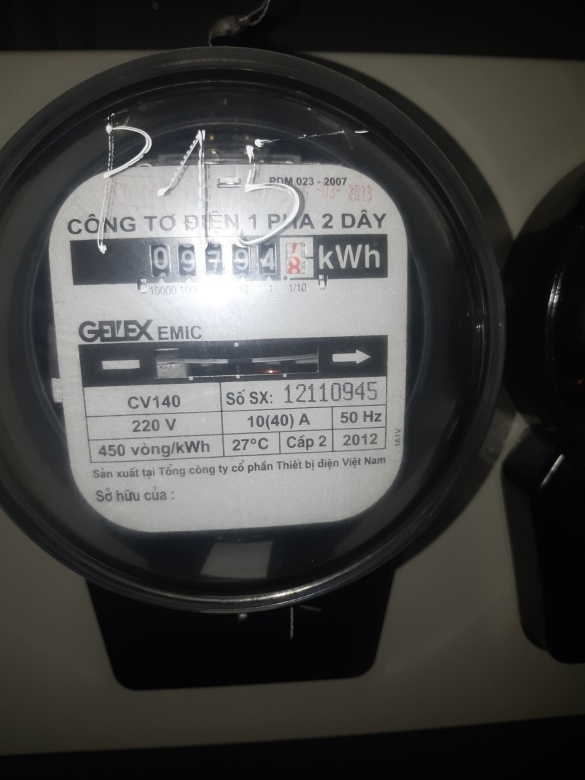counter: (70, 239, 391, 282)
electricity_meter: (2, 50, 523, 607)
